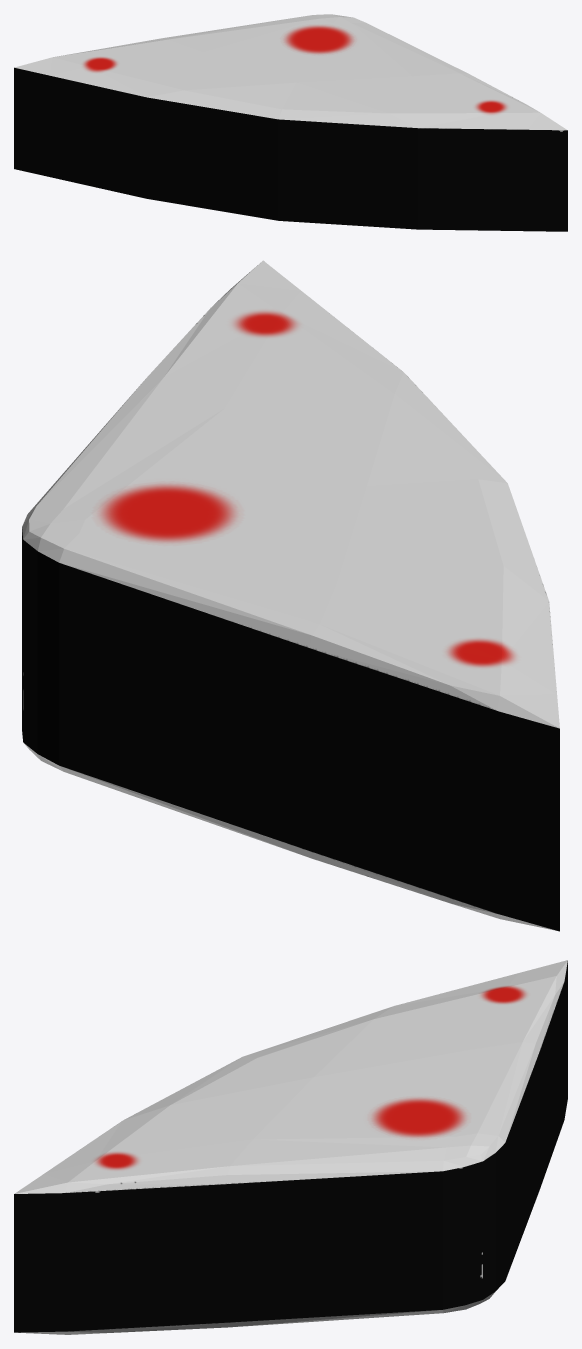
File: triangle_bumper.obj
3 views of the same model, one above another, from view 1: azimuth 30°, elevation 25°; view 2: azimuth 150°, elevation 25°; view 3: azimuth 270°, elevation 25° (orthographic). The views are drawn at different scales.
Visible parts, largest first — view 1: Triangle_Bumper_Plane.003; view 2: Triangle_Bumper_Plane.003; view 3: Triangle_Bumper_Plane.003.
Boxes of the visible parts, x1,y1,x2,y2 form: Triangle_Bumper_Plane.003: (14,14,567,231); Triangle_Bumper_Plane.003: (22,260,559,931); Triangle_Bumper_Plane.003: (14,960,567,1334).
Bounding box in the file's own units: 1.96 × 0.6195 × 1.96.
1 material, 1 textured.
